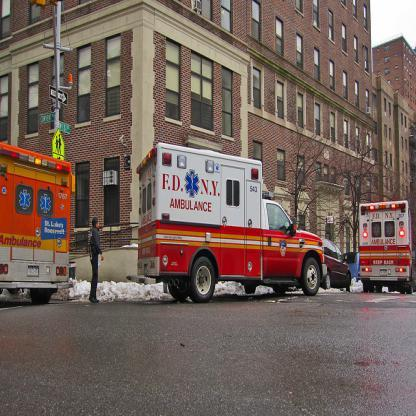Ambulance - v1 Ambulance last generate: (126, 144, 328, 306), (0, 140, 74, 303), (358, 198, 411, 291)
